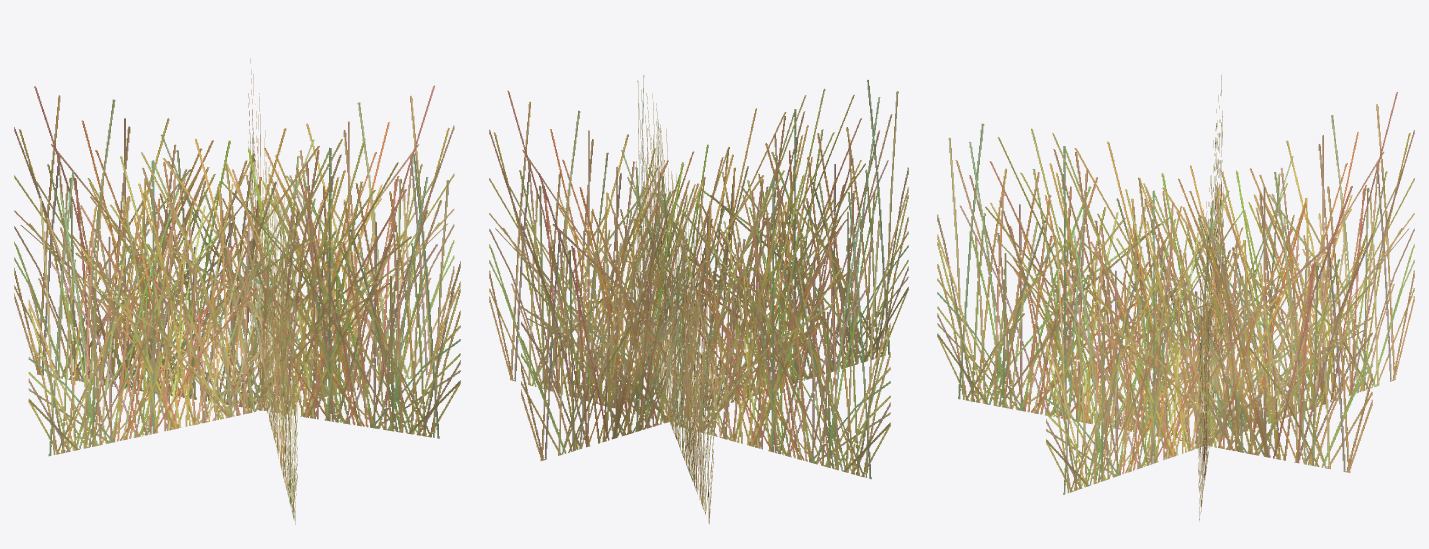
The model's file is Grass_Wispy_Short_LOD1.gltf.
The picture shows the model from 3 angles, left to right: view 1: azimuth 30°, elevation 25°; view 2: azimuth 150°, elevation 25°; view 3: azimuth 270°, elevation 25°; orthographic projection.
Visible parts, largest first — view 1: Grass_Wispy_Short_LOD1; view 2: Grass_Wispy_Short_LOD1; view 3: Grass_Wispy_Short_LOD1.
Boxes of the visible parts, bbox=[...] form: Grass_Wispy_Short_LOD1: bbox=[14, 58, 460, 524]; Grass_Wispy_Short_LOD1: bbox=[489, 75, 908, 524]; Grass_Wispy_Short_LOD1: bbox=[937, 75, 1414, 520].
Size of the model in its own units: 0.699 by 0.5186 by 0.7009.
Materials: 1 (1 with a texture image).
